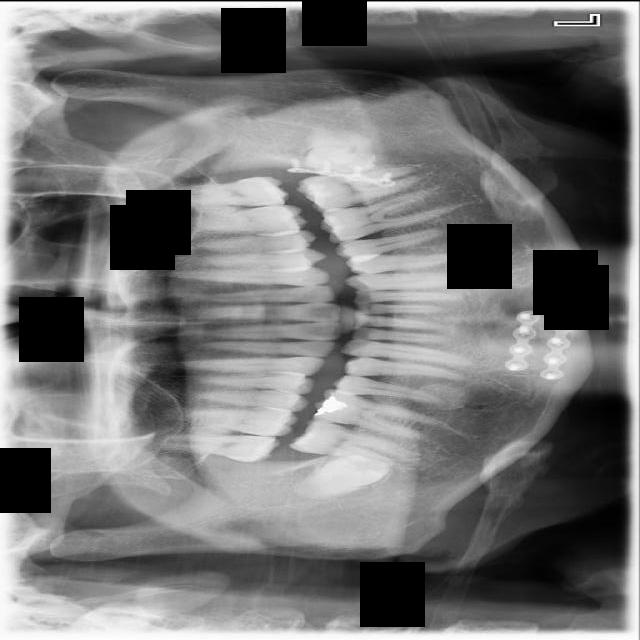52: (312, 386, 369, 426)
73: (570, 29, 576, 32)
BioHorizons Implant: (155, 175, 290, 207)
Biomet 3i Implant: (303, 125, 380, 178)
Blue Sky Bio Implant: (295, 164, 421, 214)
Caries: (147, 430, 283, 463)
Implant: (287, 414, 416, 469)
Keystone Dental Implant: (289, 438, 394, 514)
